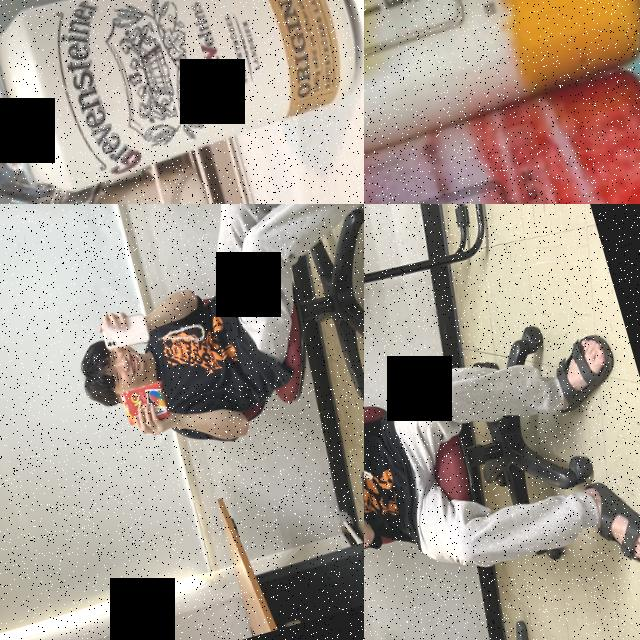can: (0, 0, 364, 204), (364, 0, 640, 204), (364, 58, 640, 204)
